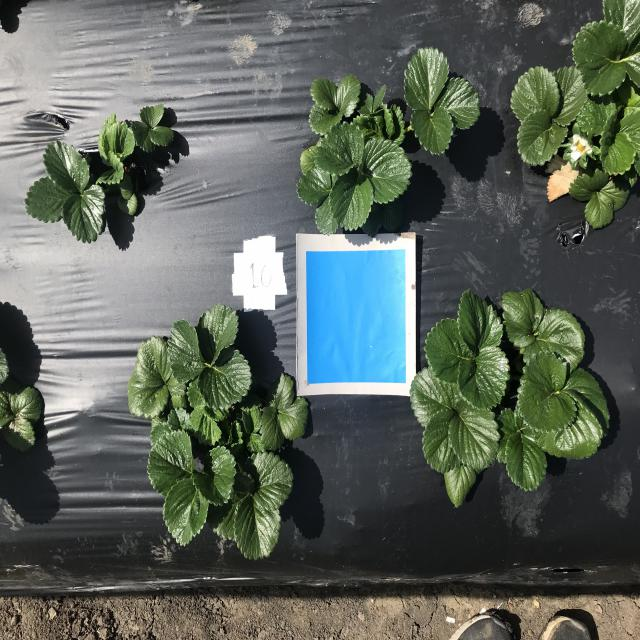Flower: (569, 132, 594, 162)
